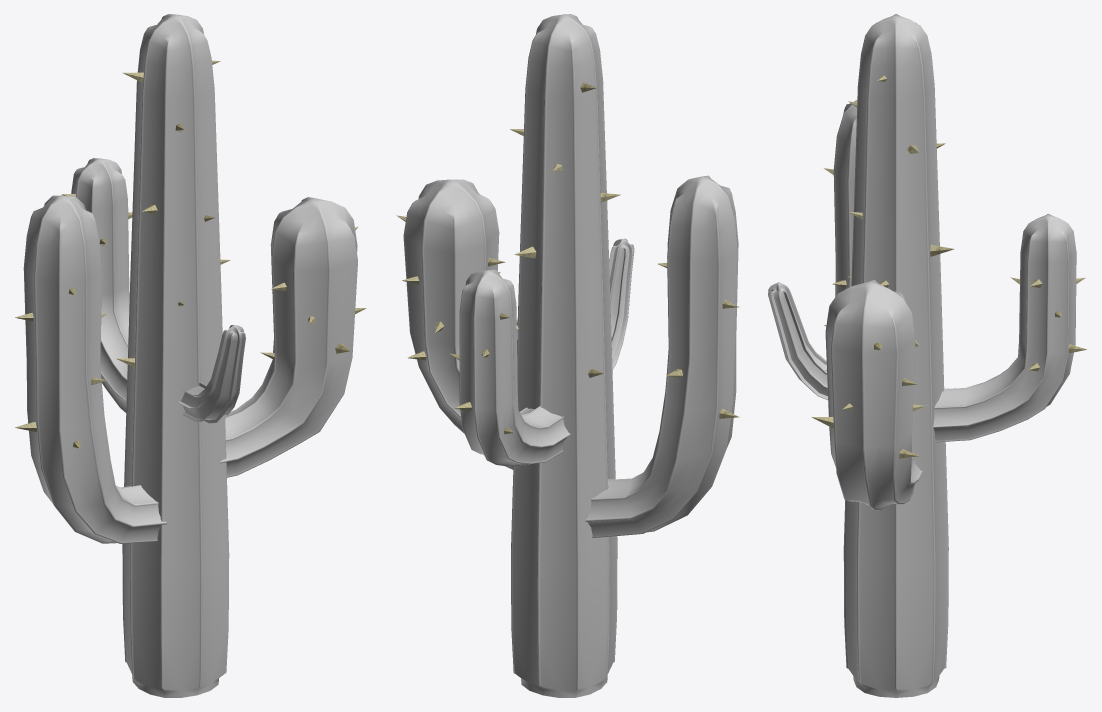
The model's file is Cactus_Saguaro_Blue_Green.fbx.
The picture shows the model from 3 angles, left to right: view 1: azimuth 30°, elevation 25°; view 2: azimuth 150°, elevation 25°; view 3: azimuth 270°, elevation 25°; orthographic projection.
Visible parts, largest first — view 1: Trunk_Main, Stem_4, Stem_1, Stem_3, Stem_2; view 2: Trunk_Main, Stem_4, Stem_1, Stem_3, Stem_2; view 3: Trunk_Main, Stem_1, Stem_3, Stem_4, Stem_2.
Part boxes in pixels (x1,y1,x2,y2): Trunk_Main: (122, 14, 229, 697); Stem_4: (23, 195, 167, 543); Stem_1: (220, 197, 357, 477); Stem_3: (71, 158, 129, 412); Stem_2: (177, 325, 245, 423); Trunk_Main: (511, 14, 617, 697); Stem_4: (585, 175, 738, 537); Stem_1: (403, 179, 513, 469); Stem_3: (459, 269, 570, 466); Stem_2: (609, 238, 634, 369); Trunk_Main: (843, 14, 948, 697); Stem_1: (825, 280, 922, 510); Stem_3: (933, 214, 1076, 442); Stem_4: (833, 100, 857, 296); Stem_2: (768, 282, 827, 399).
Size of the model in its own units: 4.79 by 8.83 by 3.86.
